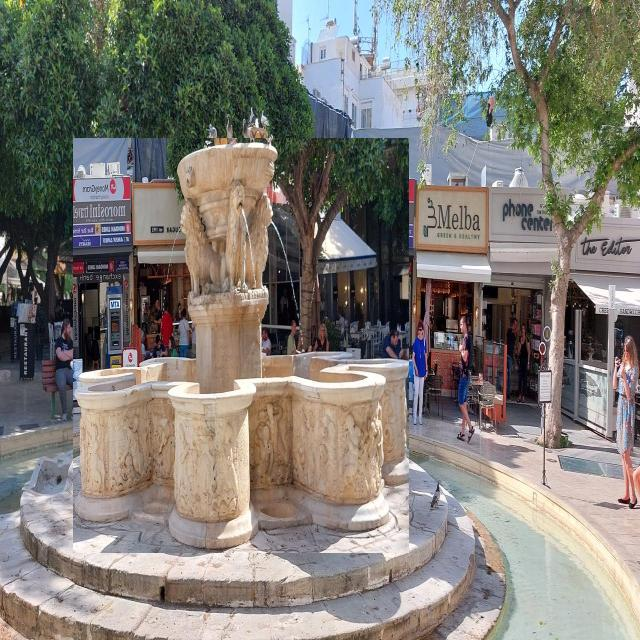Liontaria: (74, 139, 410, 554)
